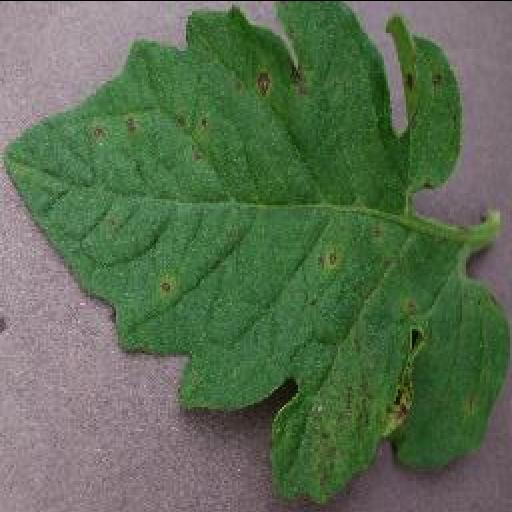disease_tomato: (0, 0, 510, 502)
